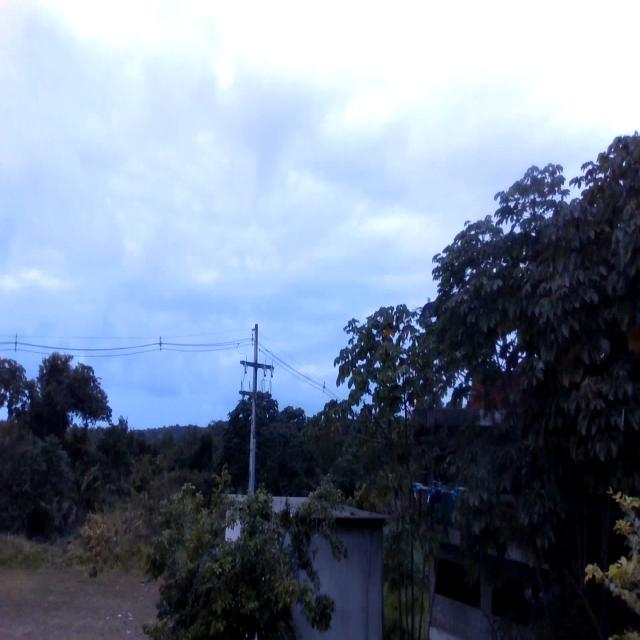-uav-: (407, 461, 470, 535)
